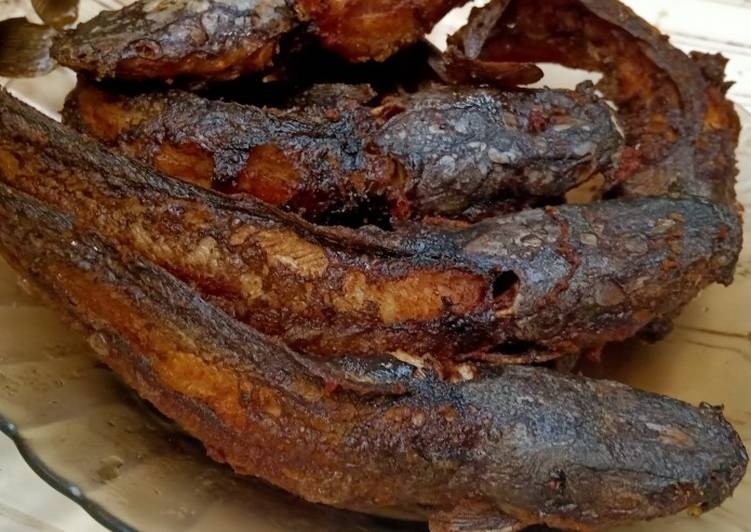pecel_lele: (0, 199, 742, 515), (0, 126, 747, 356), (57, 69, 628, 207)
